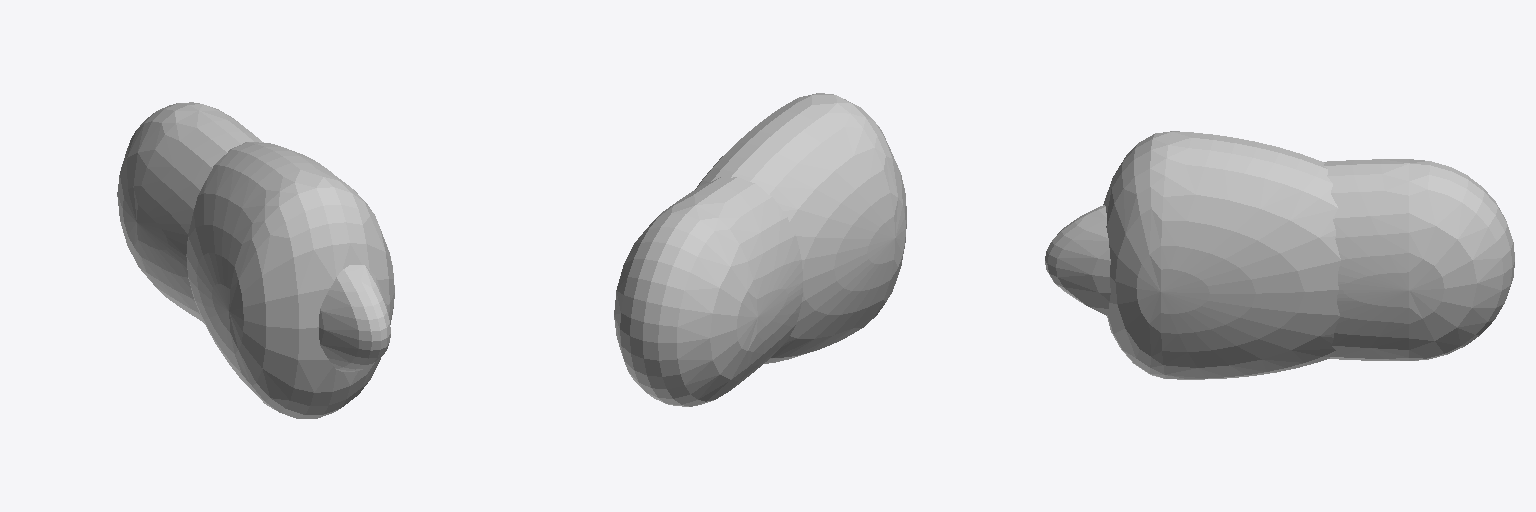
The model's file is BODY3.obj.
3 views of the same model, side by side, from view 1: azimuth 30°, elevation 25°; view 2: azimuth 150°, elevation 25°; view 3: azimuth 270°, elevation 25° (orthographic).
Size of the model in its own units: 0.2271 by 0.3333 by 0.6.